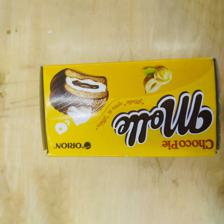Molle: (39, 56, 224, 160)
